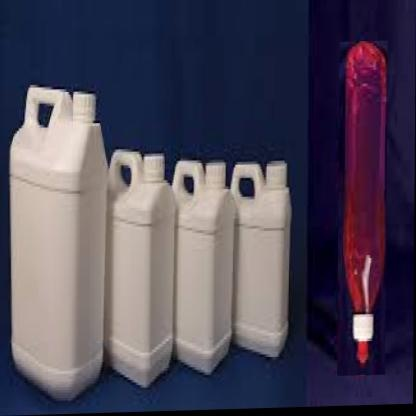trash: (10, 86, 175, 399), (10, 86, 106, 399), (338, 40, 387, 373), (107, 150, 174, 386), (173, 160, 234, 373), (173, 161, 234, 373), (231, 161, 290, 356)
